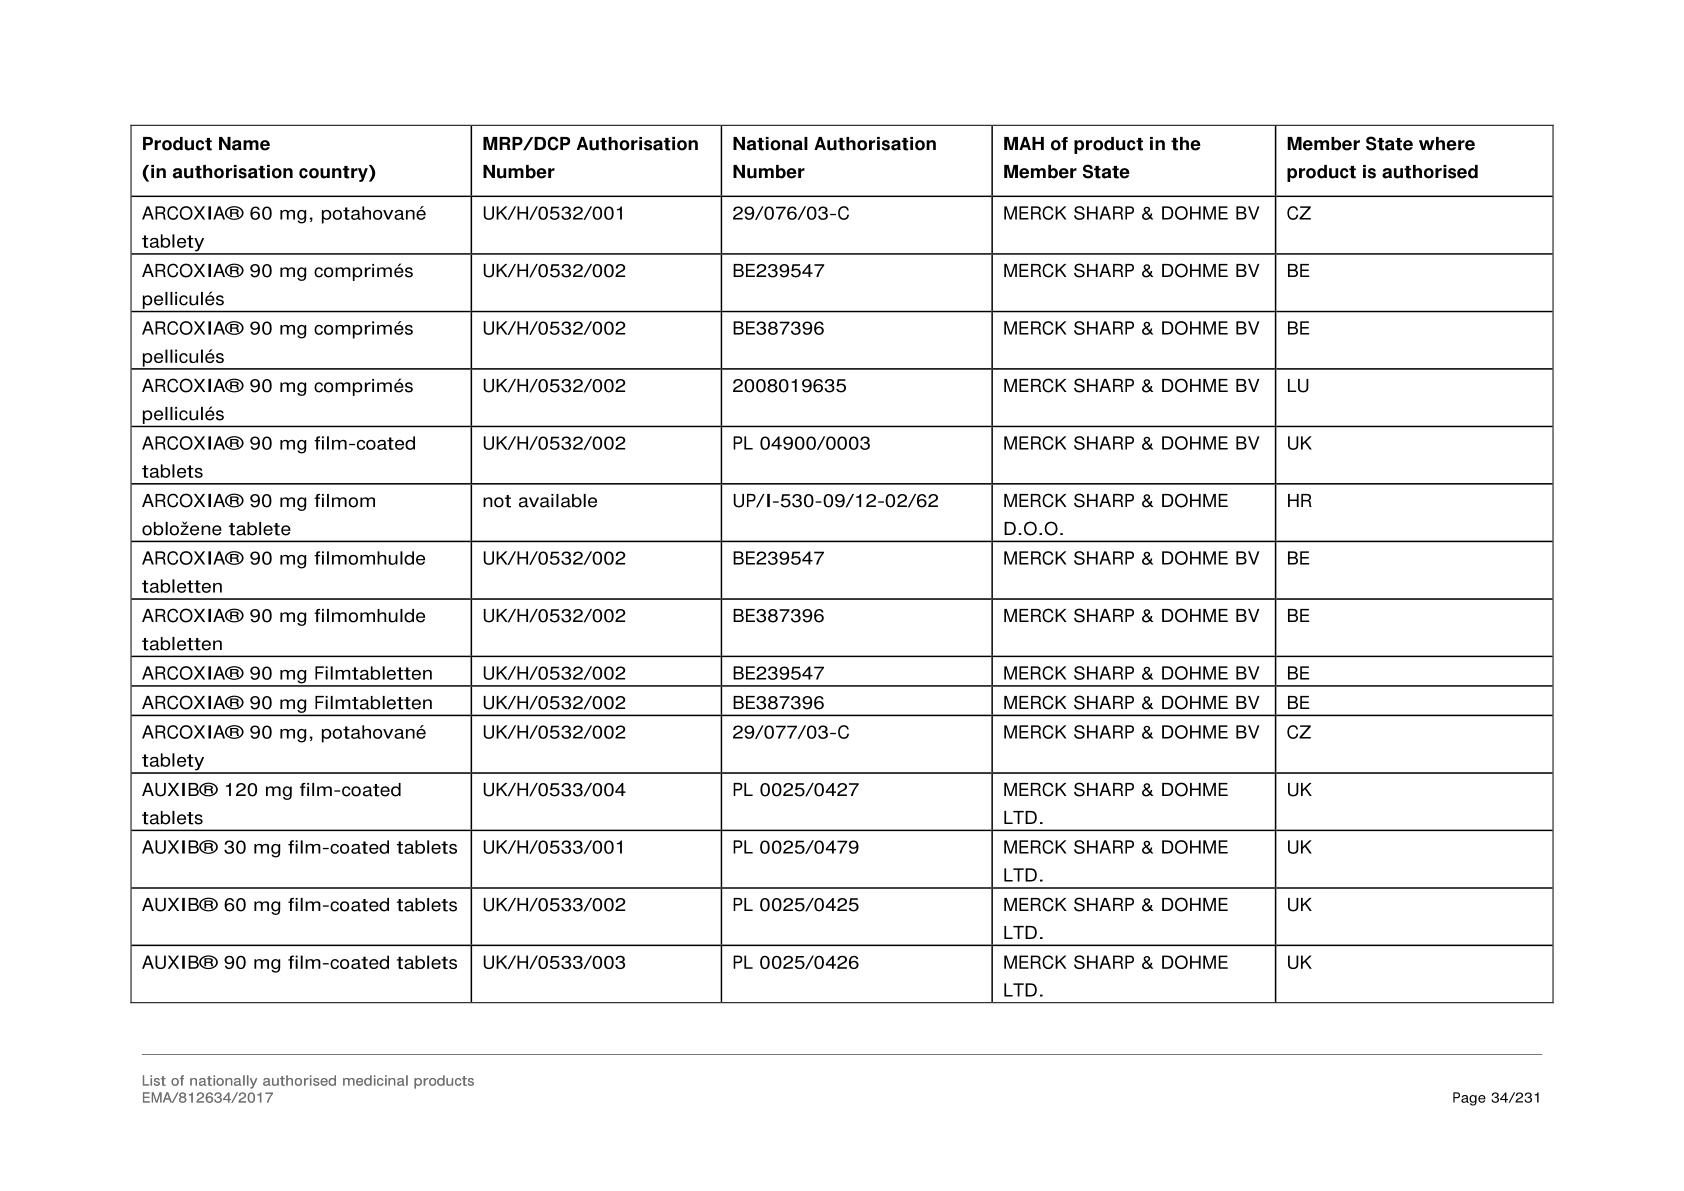full_lined: (129, 122, 1555, 1005)
